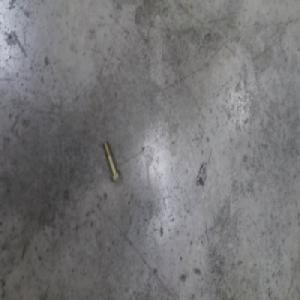Bolt: (101, 141, 120, 184)
